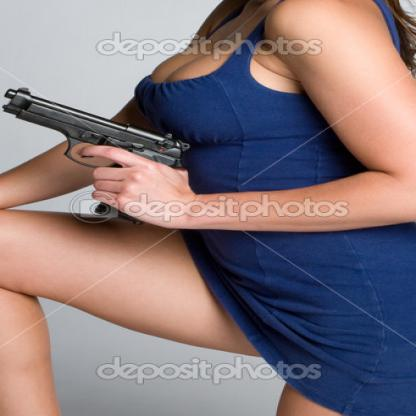gun: (0, 79, 198, 236)
